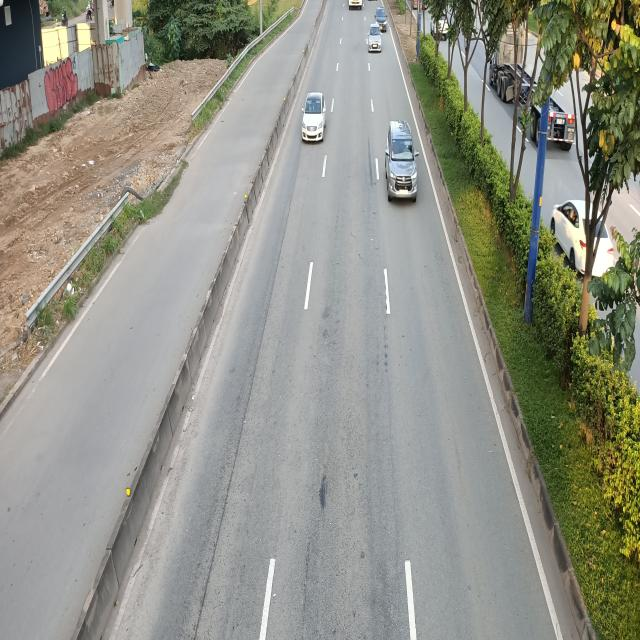car: (386, 123, 419, 204), (301, 91, 328, 141), (368, 24, 384, 52), (375, 5, 388, 31)
